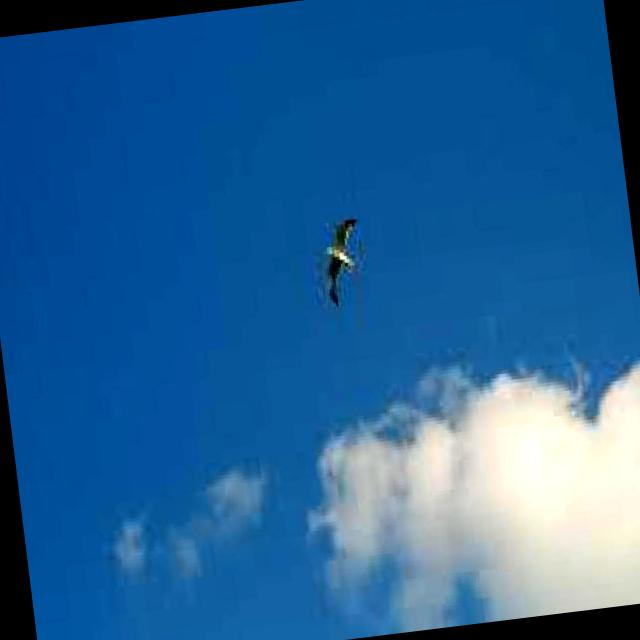bird: (314, 211, 368, 312)
